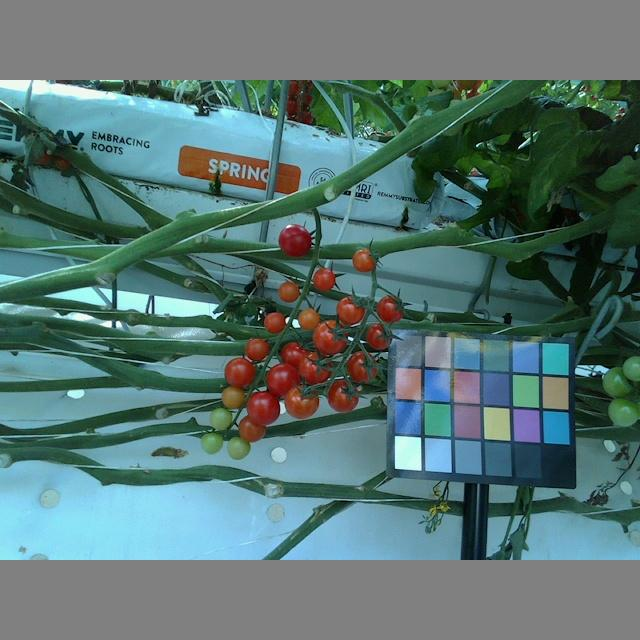green: (606, 395, 640, 427), (601, 368, 638, 396), (226, 432, 252, 461), (211, 405, 235, 432), (199, 429, 223, 454)
pink: (219, 385, 247, 411)
red: (281, 383, 318, 419), (277, 222, 315, 257), (246, 388, 281, 426), (266, 363, 301, 400), (312, 320, 348, 355), (325, 378, 359, 415), (343, 350, 378, 385), (300, 350, 335, 384), (279, 341, 314, 371), (223, 357, 256, 385), (336, 295, 366, 325), (237, 413, 267, 443), (364, 322, 394, 350), (376, 294, 404, 323), (243, 336, 270, 361), (353, 247, 377, 273), (312, 267, 336, 292), (297, 306, 320, 331), (264, 309, 287, 333), (278, 280, 301, 303)
